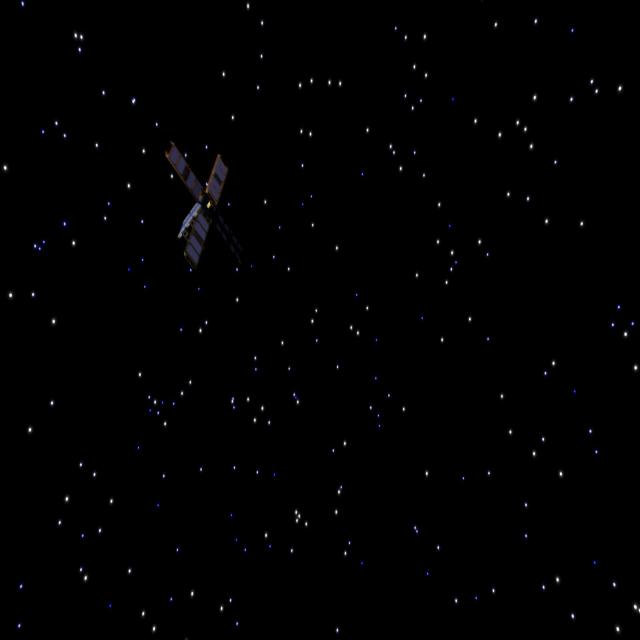satellite: (156, 138, 258, 284)
